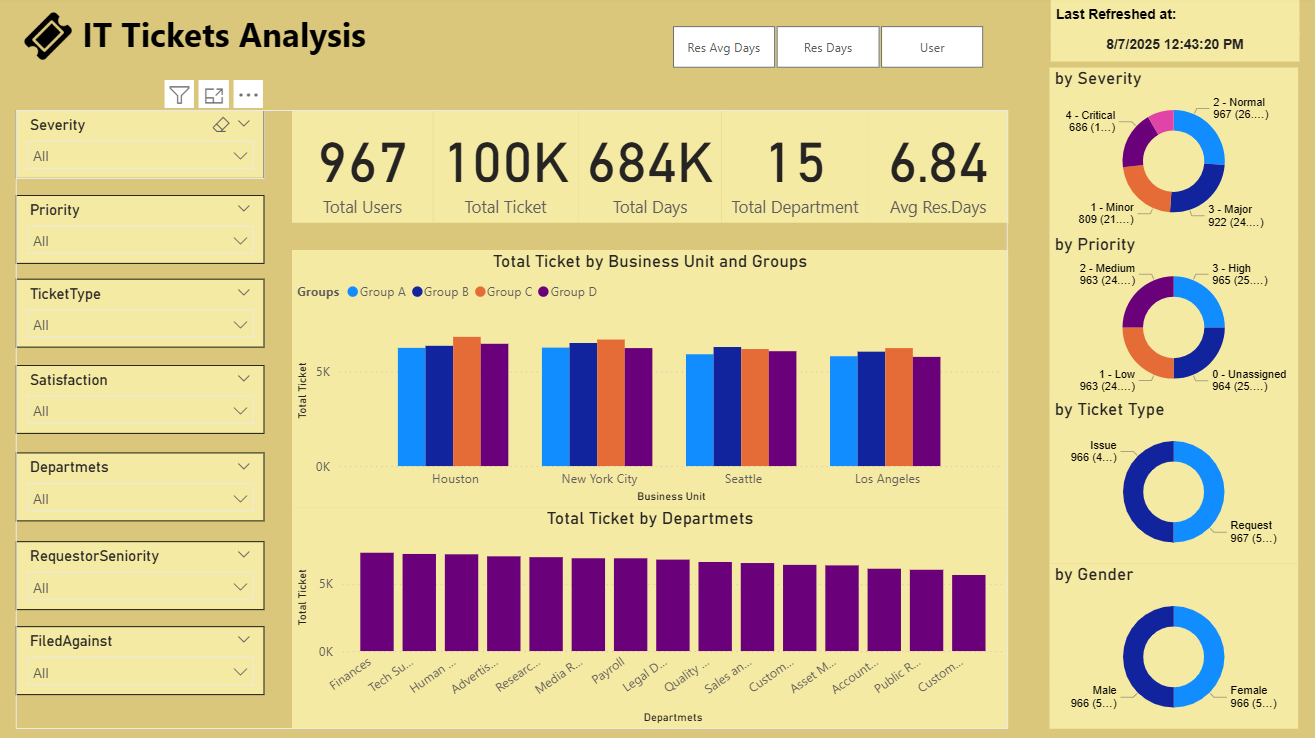

The dashboard page shown, as its layout file describes it:
{"tool":"powerbi","page":{"name":"Page 1","canvas":[1280,720],"ordinal":0},"visuals":[{"type":"image","box":[27,12,55,55],"z":0},{"type":"donutChart","title":"by Severity","fields":{"Category":["IT-Help-Desk.Severity"],"Y":["aMeasure.Selected Values"]},"box":[1020.6,69.9,240.1,160.5],"z":0,"group":"g1"},{"type":"card","fields":{"Values":["aMeasure.Total Users"]},"box":[290,111.2,136.2,108.8],"z":0,"group":"g2"},{"type":"textbox","box":[82,11,316,56],"z":1000},{"type":"card","fields":{"Values":["aMeasure.Total Ticket"]},"box":[426.2,111.2,140,108.8],"z":1000,"group":"g2"},{"type":"donutChart","title":"by Priority","fields":{"Y":["aMeasure.Selected Values"],"Category":["IT-Help-Desk.Priority"]},"box":[1020.6,230.4,240.1,160.5],"z":1000,"group":"g1"},{"type":"card","fields":{"Values":["aMeasure.Total Department"]},"box":[705,111.2,141.2,108.8],"z":2000,"group":"g2"},{"type":"slicer","fields":{"Values":["IT-Help-Desk.Severity"]},"box":[22.5,111.5,240,66.2],"z":2000,"group":"g4"},{"type":"donutChart","title":"by Ticket Type","fields":{"Category":["IT-Help-Desk.TicketType"],"Y":["aMeasure.Selected Values"]},"box":[1020.6,389.6,240.1,159.3],"z":2000,"group":"g1"},{"type":"card","fields":{"Values":["aMeasure.Avg Res.Days"]},"box":[846.2,111.2,135,108.8],"z":3000,"group":"g2"},{"type":"slicer","fields":{"Values":["IT-Help-Desk.Priority"]},"box":[22.5,192.7,240,66.2],"z":3000,"group":"g4"},{"type":"donutChart","title":"by Gender","fields":{"Y":["aMeasure.Selected Values"],"Category":["IT-Help-Desk.Gender"]},"box":[1020.6,548.9,240.1,159.3],"z":3000,"group":"g1"},{"type":"card","fields":{"Values":["Min(Last Refresh.LastRefresh)"]},"box":[1021.8,36.2,240.1,27.7],"z":4000,"group":"g1"},{"type":"card","fields":{"Values":["aMeasure.Total Days"]},"box":[566.2,111.2,138.8,108.8],"z":4000,"group":"g2"},{"type":"slicer","fields":{"Values":["IT-Help-Desk.FiledAgainst"]},"box":[22.5,609,240,66.2],"z":4000,"group":"g4"},{"type":"textbox","box":[1021.8,3.6,240,36.4],"z":5000,"group":"g1"},{"type":"slicer","fields":{"Values":["IT-Help-Desk.TicketType"]},"box":[22.5,274,240,66.2],"z":5000,"group":"g4"},{"type":"slicer","fields":{"Values":["IT-Help-Desk.RequestorSeniority"]},"box":[22.5,527.7,240,66.2],"z":6000,"group":"g4"},{"type":"slicer","fields":{"Values":["IT-Help-Desk.Satisfaction"]},"box":[22.5,357.7,240,66.2],"z":7000,"group":"g4"},{"type":"slicer","fields":{"Values":["IT-Help-Desk.Departmets"]},"box":[22.5,441.5,240,66.2],"z":8000,"group":"g4"},{"type":"clusteredColumnChart","fields":{"Y":["aMeasure.Total Ticket"],"Series":["IT-Help-Desk.Groups"],"Category":["IT-Help-Desk.Business Unit"]},"box":[289.5,246.1,691.3,248.5],"z":9000,"group":"g3"},{"type":"clusteredColumnChart","fields":{"Y":["aMeasure.Total Ticket"],"Category":["IT-Help-Desk.Departmets"]},"box":[289.5,494.6,691.3,213.5],"z":10000,"group":"g3"},{"type":"slicer","fields":{"Values":["Metrics.C values"]},"box":[631,22.9,349.9,54.3],"z":11000},{"type":"group","id":"g1","title":"Donut Group","box":[1020.6,3.6,241.3,704.5],"z":12000},{"type":"group","id":"g2","title":"Card Group","box":[290,111.2,691.2,108.8],"z":13000,"group":"g3"},{"type":"group","id":"g3","title":"Chart Group","box":[289.5,111.2,691.7,596.9],"z":13001,"group":"g4"},{"type":"group","id":"g4","title":"Slicer Group","box":[22.5,111.2,958.8,596.9],"z":13002}]}

Visuals, with their boxes in screenshot pixels (x1, y1, x2, y2), scaled from the page's 1280x720 canvas onto the 1315x738 screenshot:
image: 28,12,84,69
"by Severity" donutChart: 1049,72,1295,236
card - aMeasure.Total Users: 298,114,438,225
textbox: 84,11,409,69
card - aMeasure.Total Ticket: 438,114,582,225
"by Priority" donutChart: 1049,236,1295,401
card - aMeasure.Total Department: 724,114,869,225
slicer - IT-Help-Desk.Severity: 23,114,270,182
"by Ticket Type" donutChart: 1049,399,1295,563
card - aMeasure.Avg Res.Days: 869,114,1008,225
slicer - IT-Help-Desk.Priority: 23,198,270,265
"by Gender" donutChart: 1049,563,1295,726
card - Min(Last Refresh.LastRefresh): 1050,37,1296,65
card - aMeasure.Total Days: 582,114,724,225
slicer - IT-Help-Desk.FiledAgainst: 23,624,270,692
textbox: 1050,4,1296,41
slicer - IT-Help-Desk.TicketType: 23,281,270,349
slicer - IT-Help-Desk.RequestorSeniority: 23,541,270,609
slicer - IT-Help-Desk.Satisfaction: 23,367,270,434
slicer - IT-Help-Desk.Departmets: 23,453,270,520
clusteredColumnChart - aMeasure.Total Ticket x IT-Help-Desk.Groups: 297,252,1008,507
clusteredColumnChart - aMeasure.Total Ticket x IT-Help-Desk.Departmets: 297,507,1008,726
slicer - Metrics.C values: 648,23,1008,79
"Donut Group" group: 1049,4,1296,726
"Card Group" group: 298,114,1008,225
"Chart Group" group: 297,114,1008,726
"Slicer Group" group: 23,114,1008,726
